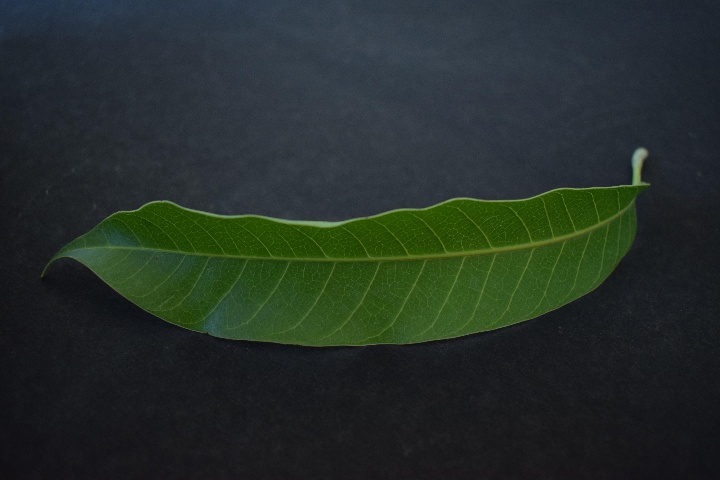healthy: (46, 181, 657, 353)
